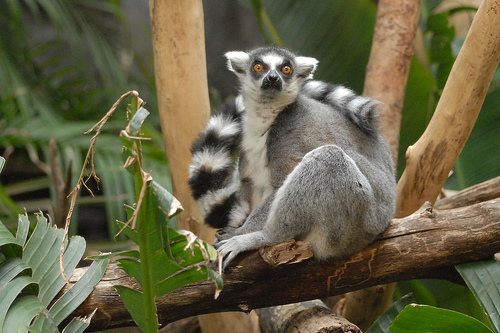cat: (187, 45, 399, 277)
